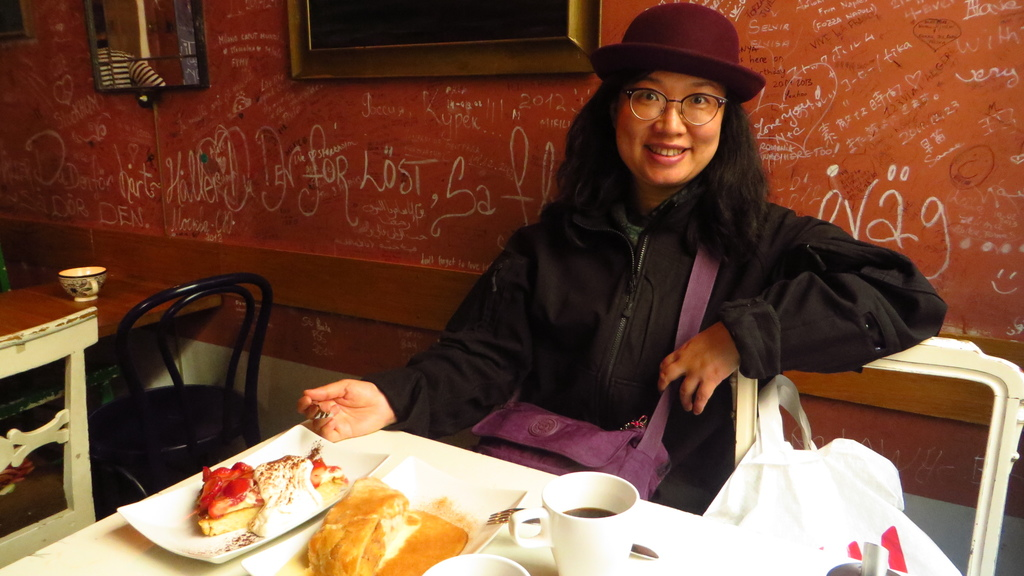Human-face: (616, 72, 721, 186)
